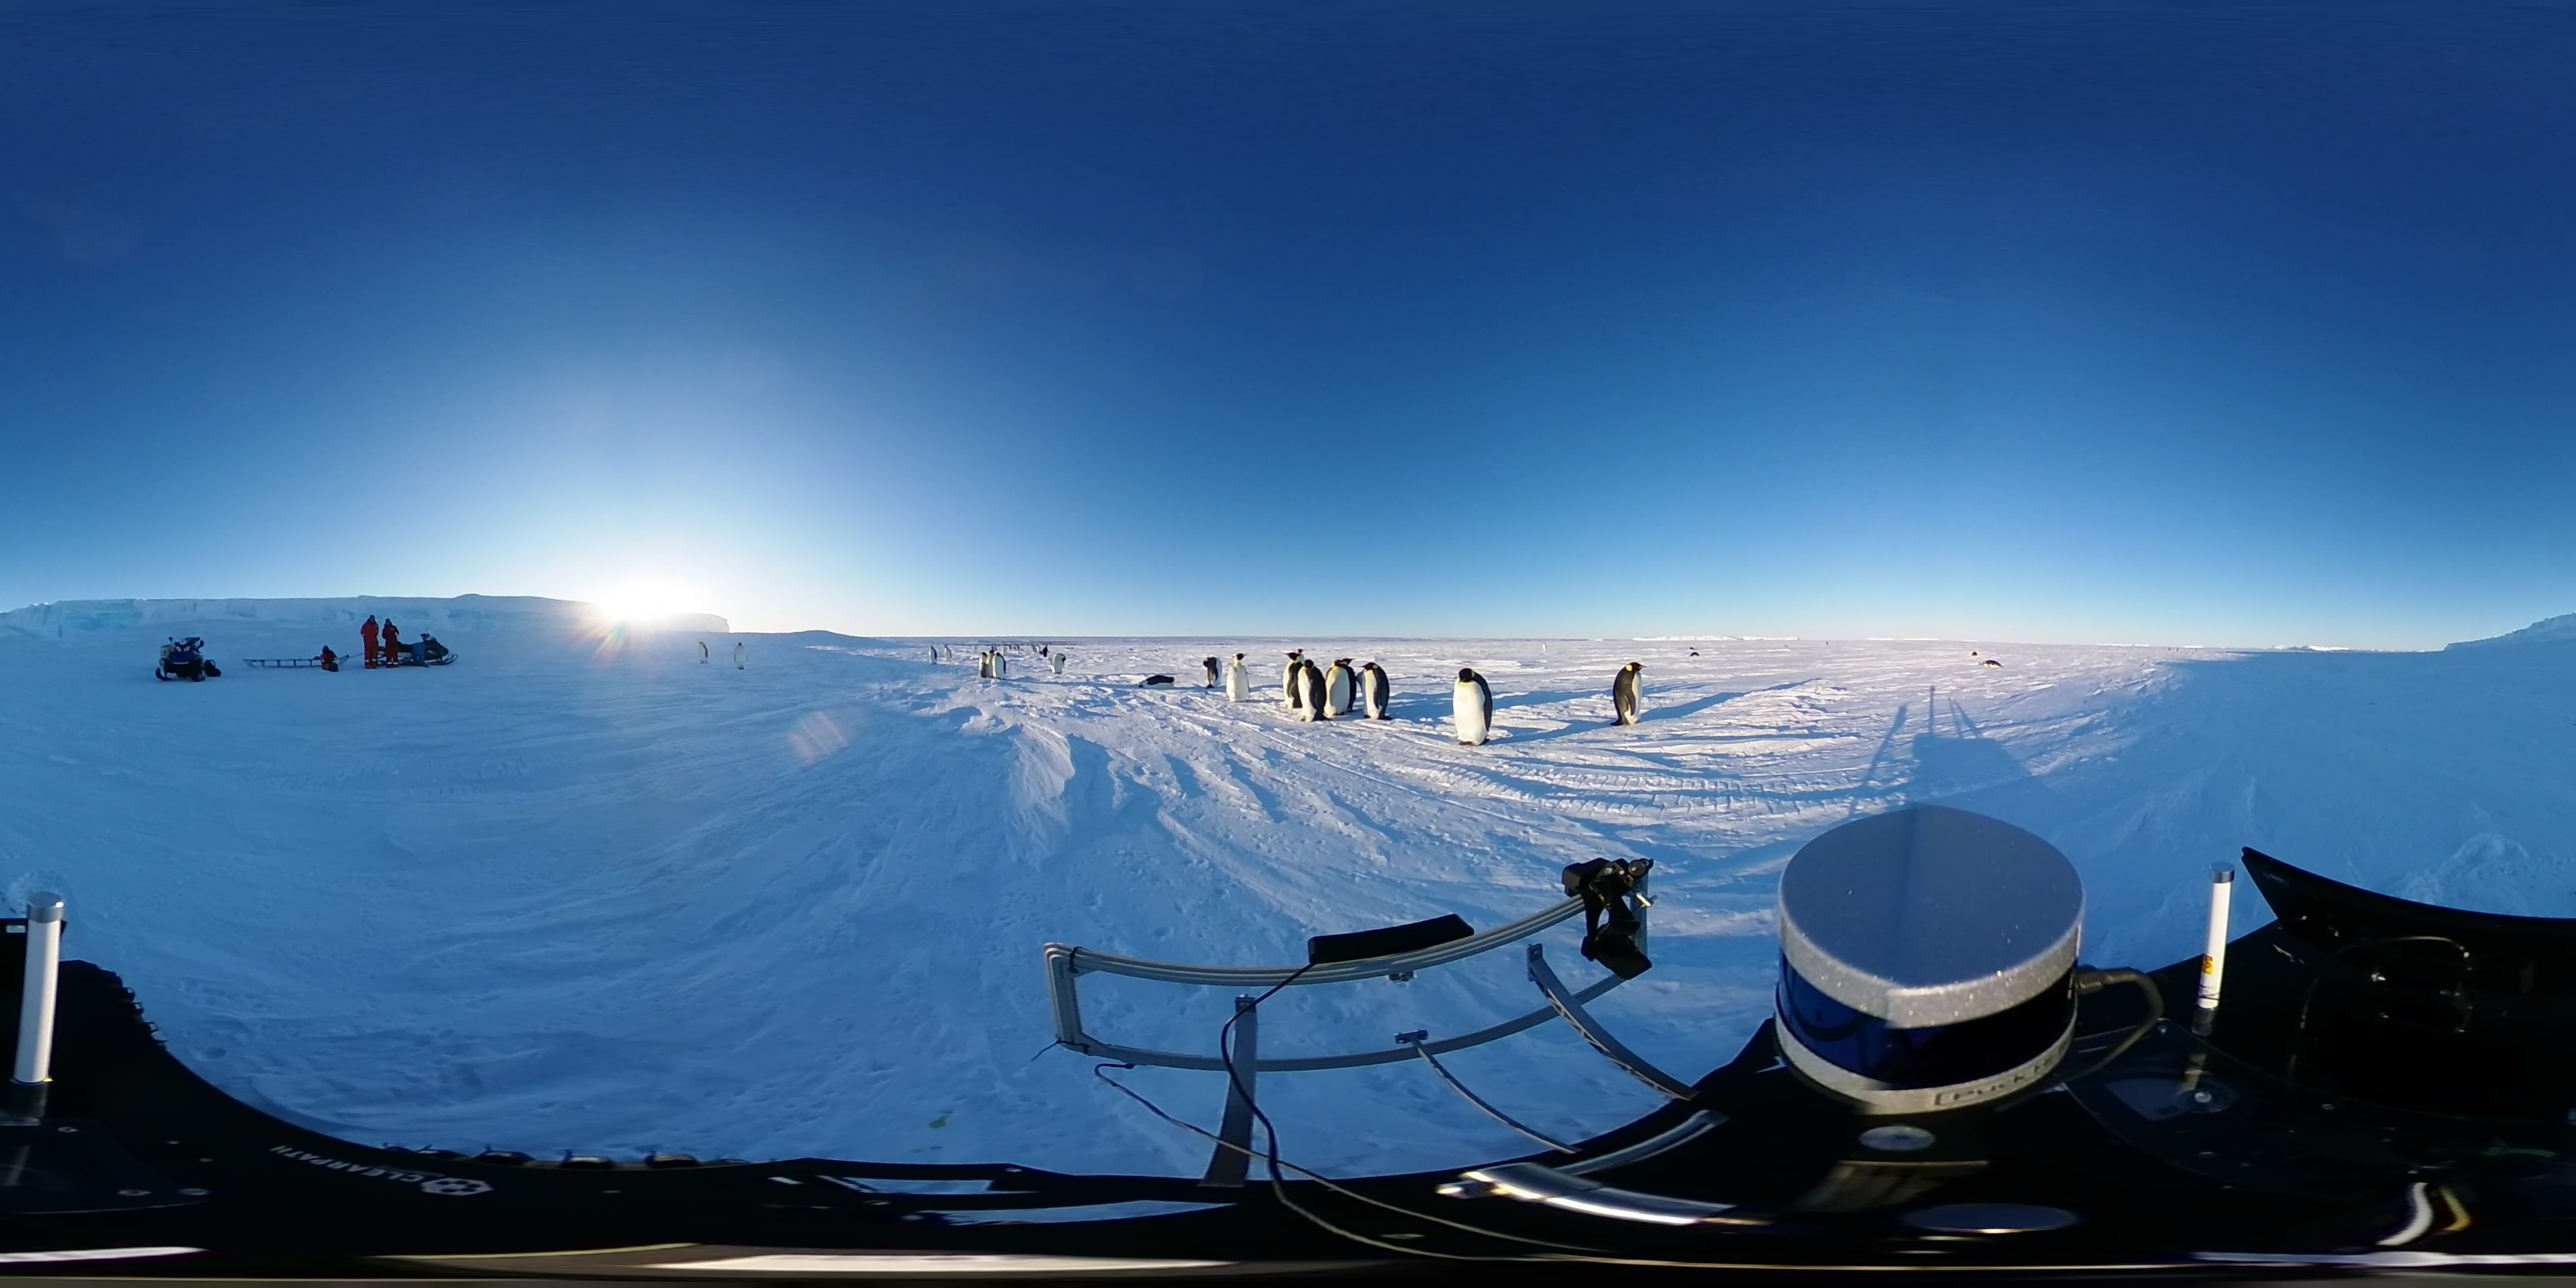adult_standing_penguin: (1449, 665, 1495, 751), (1607, 659, 1654, 731), (1359, 659, 1398, 728), (1295, 657, 1327, 728), (1226, 651, 1255, 705)
adult_toboggan_penguin: (1135, 674, 1178, 695), (1980, 655, 2008, 672)
researcher: (356, 611, 381, 672), (379, 616, 402, 670), (315, 641, 342, 677)
